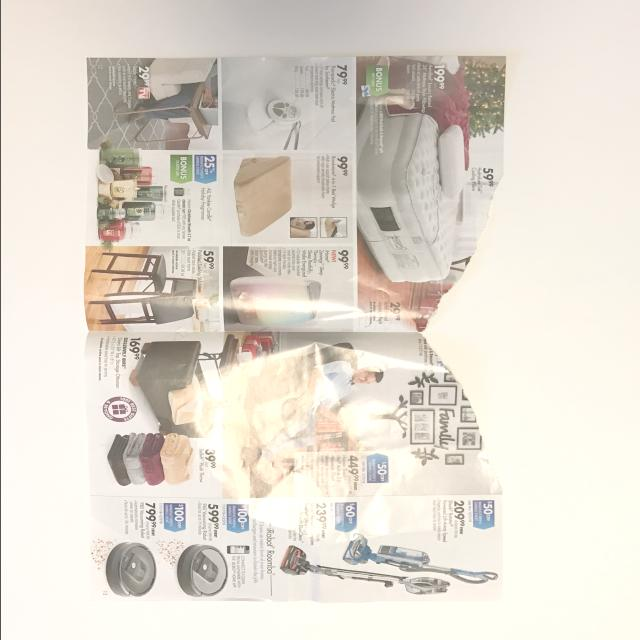Paper: (86, 59, 506, 605)
